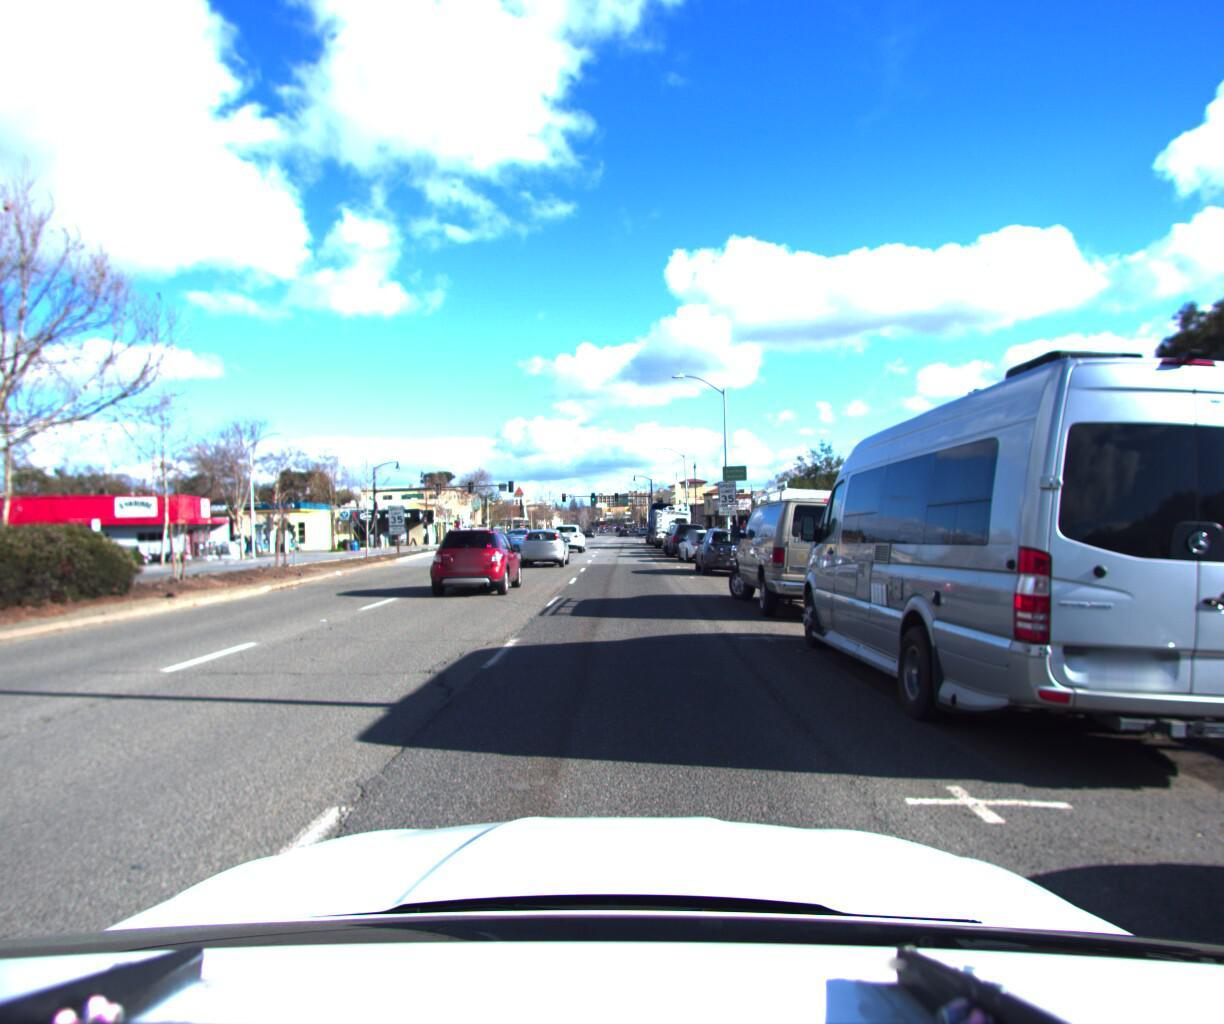car: (796, 286, 1224, 820), (731, 475, 897, 631), (430, 525, 532, 601), (694, 522, 762, 581), (521, 527, 576, 571), (677, 527, 730, 564), (666, 520, 712, 559), (664, 519, 703, 555), (554, 526, 590, 554), (506, 525, 541, 552)
other_vehicle: (654, 504, 695, 551)
truck: (646, 500, 680, 545)
